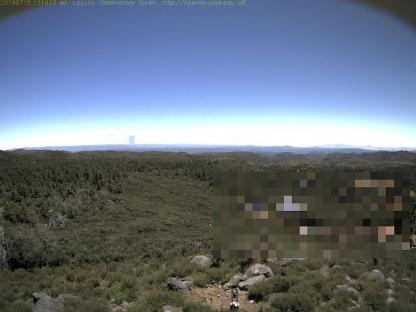smoke: (126, 132, 138, 148)
